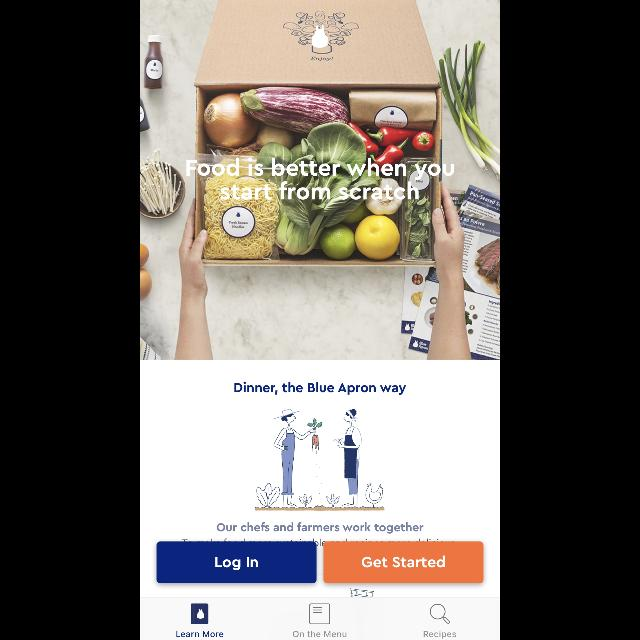icon: (310, 604, 330, 624), (430, 604, 450, 624)
image: (140, 0, 500, 360), (255, 409, 385, 511), (192, 604, 208, 624)
text: (186, 157, 454, 200), (216, 522, 424, 534), (234, 382, 406, 394), (294, 630, 346, 638), (176, 631, 224, 637), (424, 630, 456, 638)
textbutton: (157, 541, 317, 583), (324, 541, 484, 583)
